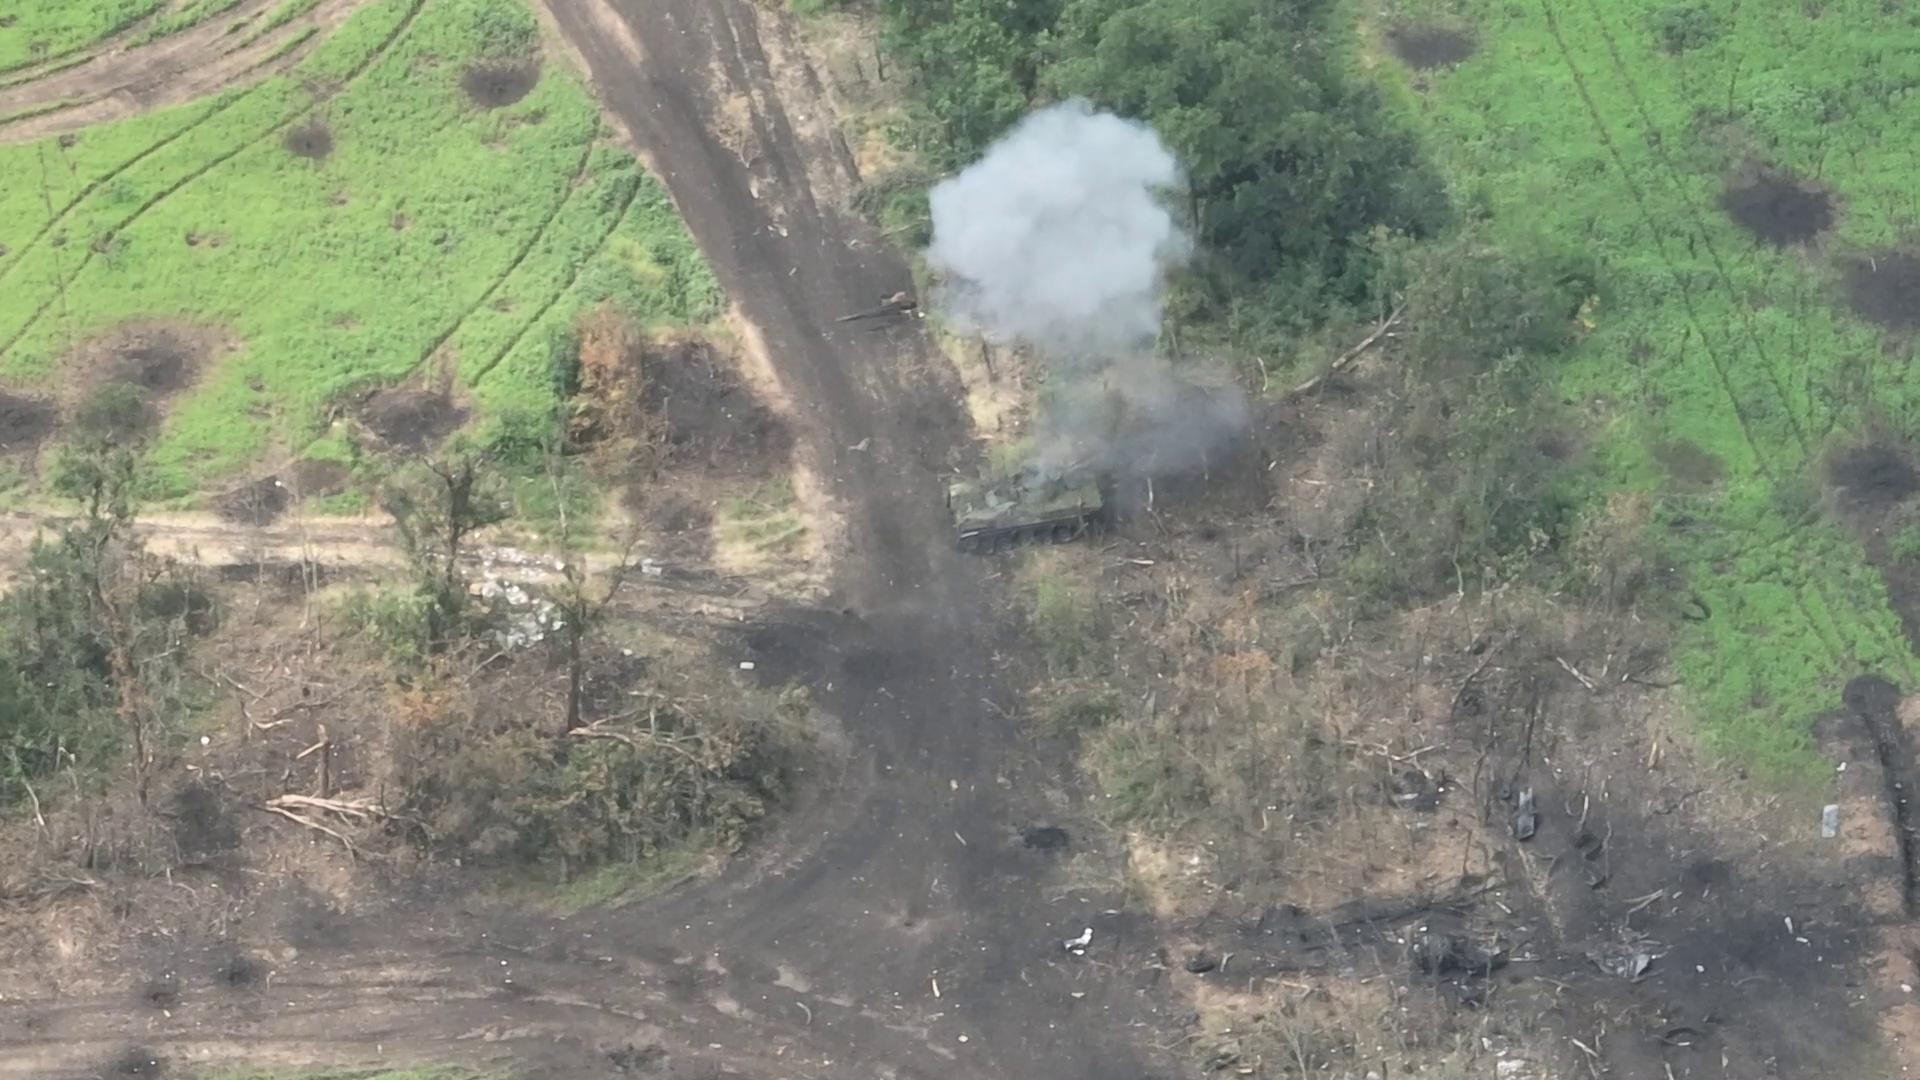tank: (939, 452, 1110, 559)
